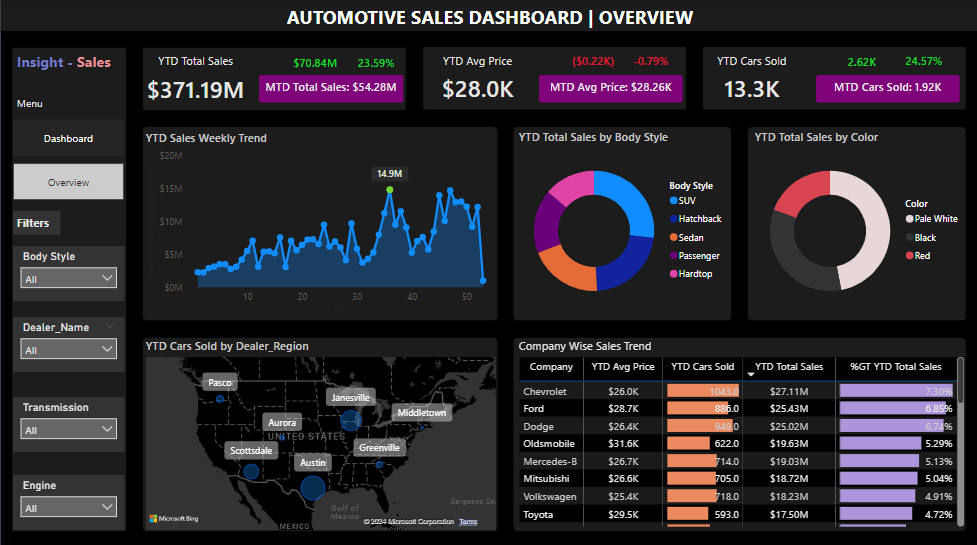

What the dashboard file says about the page in this screenshot:
{"tool":"powerbi","page":{"name":"Dashboard","canvas":[1280,720],"ordinal":0},"visuals":[{"type":"card","title":"YTD Total Sales","fields":{"Values":["car_data.YTD Total Sales"]},"box":[185.8,68.8,140.4,74.3],"z":0},{"type":"card","fields":{"Values":["car_data.Sales Difference"]},"box":[378.5,68.8,68.8,28.9],"z":1000},{"type":"card","fields":{"Values":["car_data.YOY Sales Growth"]},"box":[458.3,68.8,68.8,28.9],"z":2000},{"type":"card","fields":{"Values":["car_data.MTD KPI"]},"box":[338.6,97.7,188.6,35.8],"z":3000},{"type":"card","title":"YTD Avg Price","fields":{"Values":["car_data.YTD Avg Price"]},"box":[554.9,69.5,140.5,73.8],"z":4000},{"type":"card","fields":{"Values":["car_data.Avg Price Difference"]},"box":[742.2,68.1,68.1,28.4],"z":5000},{"type":"card","fields":{"Values":["car_data.YoY Avg Price Growth"]},"box":[818.2,67.7,67.7,28.3],"z":6000},{"type":"card","fields":{"Values":["car_data.MTD Avg Price KPI"]},"box":[705.6,97.8,187.8,35.6],"z":7000},{"type":"card","title":"YTD Cars Sold","fields":{"Values":["car_data.YTD Cars Sold"]},"box":[913.3,70,141.1,73.3],"z":8000},{"type":"card","fields":{"Values":["car_data.Cars Sold Diff"]},"box":[1094.4,64.4,67.8,36.7],"z":9000},{"type":"card","fields":{"Values":["car_data.YoY Cars Sold Growth"]},"box":[1175.6,63.3,67.8,36.7],"z":10000},{"type":"card","fields":{"Values":["car_data.MTD Cars Sold KPI"]},"box":[1067.8,97.8,187.8,35.6],"z":11000},{"type":"areaChart","title":"YTD Sales Weekly Trend","fields":{"Category":["Calendar Table.Week"],"Y":["Sum(car_data.Price ($))","car_data.Max Point"]},"box":[186.2,170,468.8,245],"z":12000},{"type":"donutChart","fields":{"Category":["car_data.Body Style"],"Y":["car_data.YTD Total Sales"]},"box":[674.6,168.7,284.9,246.6],"z":13000},{"type":"donutChart","fields":{"Y":["car_data.YTD Total Sales"],"Category":["car_data.Color"]},"box":[983.6,168.7,284.9,246.6],"z":14000},{"type":"map","fields":{"Category":["car_data.Dealer_Region"],"Size":["car_data.YTD Cars Sold"]},"box":[186.2,442.5,468.8,256.2],"z":15000},{"type":"tableEx","title":"Company Wise Sales Trend","fields":{"Values":["car_data.Company","car_data.YTD Avg Price","car_data.YTD Cars Sold","car_data.YTD Total Sales","Divide(car_data.YTD Total Sales, ScopedEval(car_data.YTD Total Sales, []))"]},"box":[674.4,442.2,593.3,252.2],"z":16000},{"type":"textbox","box":[369.9,0,569.8,52.4],"z":17000},{"type":"slicer","fields":{"Values":["car_data.Body Style"]},"box":[16.8,322.5,146.1,72.2],"z":18000},{"type":"slicer","fields":{"Values":["car_data.Dealer_Name"]},"box":[16.8,414.9,146.1,72.2],"z":19000},{"type":"slicer","fields":{"Values":["car_data.Engine"]},"box":[16.8,621.5,146.1,72.2],"z":20000},{"type":"slicer","fields":{"Values":["car_data.Transmission"]},"box":[16.8,519.1,146.1,72.2],"z":21000},{"type":"textbox","box":[17,276.4,62.4,31.2],"z":22000},{"type":"textbox","box":[17,62.4,150.2,42.5],"z":23000},{"type":"textbox","box":[17,120.5,62.4,35.4],"z":24000},{"type":"pageNavigator","box":[17,155.9,146,106.3],"z":25000}]}

Visuals, with their boxes on the page's 1280x720 design canvas (x1, y1, x2, y2). These are canvas units, not pixel positions in the 977x545 screenshot, which may show the page scaled, cropped or inside an application window:
"YTD Total Sales" card: <box>186,69,326,143</box>
card - car_data.Sales Difference: <box>378,69,447,98</box>
card - car_data.YOY Sales Growth: <box>458,69,527,98</box>
card - car_data.MTD KPI: <box>339,98,527,134</box>
"YTD Avg Price" card: <box>555,70,695,143</box>
card - car_data.Avg Price Difference: <box>742,68,810,96</box>
card - car_data.YoY Avg Price Growth: <box>818,68,886,96</box>
card - car_data.MTD Avg Price KPI: <box>706,98,893,133</box>
"YTD Cars Sold" card: <box>913,70,1054,143</box>
card - car_data.Cars Sold Diff: <box>1094,64,1162,101</box>
card - car_data.YoY Cars Sold Growth: <box>1176,63,1243,100</box>
card - car_data.MTD Cars Sold KPI: <box>1068,98,1256,133</box>
"YTD Sales Weekly Trend" areaChart: <box>186,170,655,415</box>
donutChart - car_data.Body Style x car_data.YTD Total Sales: <box>675,169,960,415</box>
donutChart - car_data.YTD Total Sales x car_data.Color: <box>984,169,1268,415</box>
map - car_data.Dealer_Region x car_data.YTD Cars Sold: <box>186,442,655,699</box>
"Company Wise Sales Trend" tableEx: <box>674,442,1268,694</box>
textbox: <box>370,0,940,52</box>
slicer - car_data.Body Style: <box>17,322,163,395</box>
slicer - car_data.Dealer_Name: <box>17,415,163,487</box>
slicer - car_data.Engine: <box>17,622,163,694</box>
slicer - car_data.Transmission: <box>17,519,163,591</box>
textbox: <box>17,276,79,308</box>
textbox: <box>17,62,167,105</box>
textbox: <box>17,120,79,156</box>
pageNavigator: <box>17,156,163,262</box>
